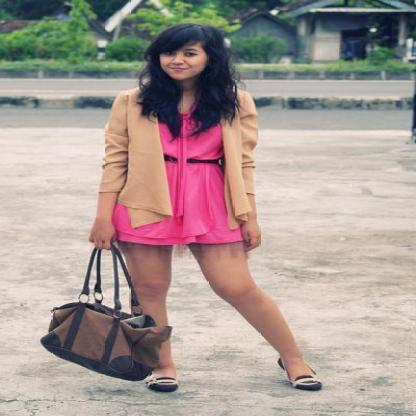bag: (40, 228, 172, 380)
dress: (116, 119, 236, 245)
jacket: (100, 92, 261, 235)
shoe: (148, 358, 321, 392)
